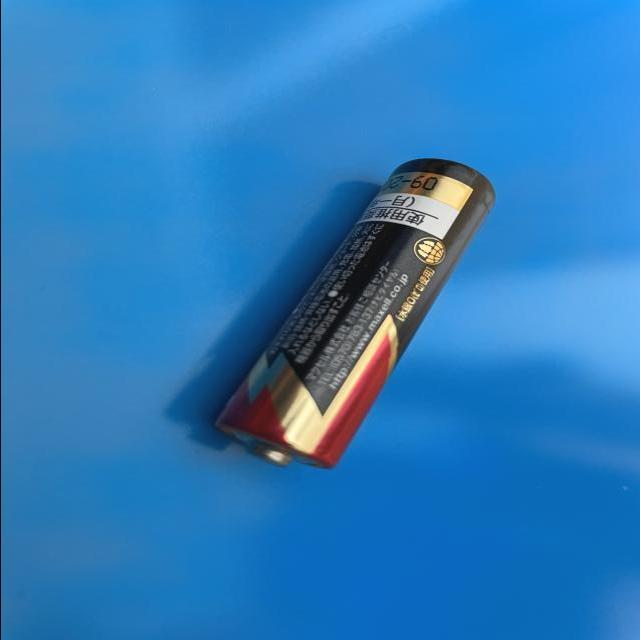AA: (211, 156, 497, 471)
